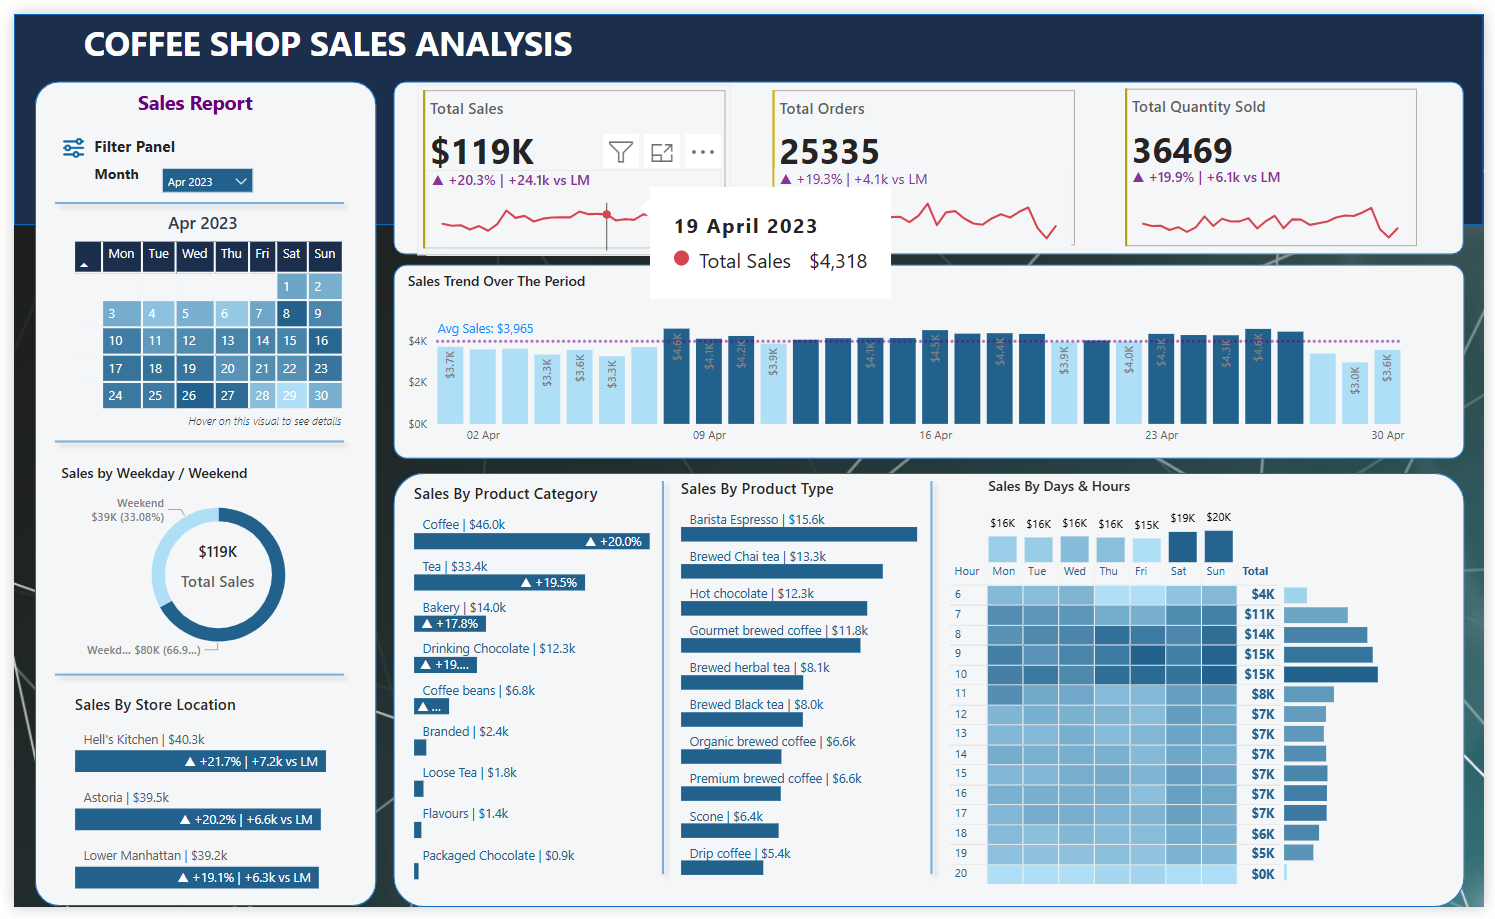

The dashboard page shown, as its layout file describes it:
{"tool":"powerbi","page":{"name":"Page 1","canvas":[1400,850],"ordinal":0},"visuals":[{"type":"shape","box":[0,0,1399.5,201],"z":0},{"type":"shape","box":[20.4,64.4,325.1,785.3],"z":1000},{"type":"shape","box":[361.3,64.4,1019.4,164.9],"z":2000},{"type":"textbox","box":[61.3,0,523,67.5],"z":3000},{"type":"slicer","fields":{"Values":["Date Table.Month Year"]},"box":[135,141.7,96.7,31.7],"z":4000},{"type":"cardVisual","fields":{"Data":["Transactions.Total Quantity Sold"]},"box":[1052.5,65,288.8,160.6],"z":5000,"group":"g3"},{"type":"group","id":"g1","title":"Group 1","box":[383.8,67.5,298.8,162.5],"z":5000},{"type":"cardVisual","fields":{"Data":["Transactions.Total Sales"]},"box":[383.8,67.5,298.8,161.9],"z":5000,"group":"g1"},{"type":"cardVisual","fields":{"Data":["Transactions.Total Orders"]},"box":[717.5,67.5,298.5,158.5],"z":5000,"group":"g2"},{"type":"group","id":"g2","title":"Group 1","box":[717.5,67.5,298.5,160],"z":6000},{"type":"lineChart","fields":{"Y":["Transactions.Total Quantity Sold"],"Category":["Date Table.Date Hierarchy.Date"]},"box":[1060.2,145.2,272.4,81.1],"z":6000,"group":"g3"},{"type":"lineChart","fields":{"Y":["Transactions.Total Orders"],"Category":["Date Table.Date Hierarchy.Date"]},"box":[725,147.5,282.5,80],"z":6000,"group":"g2"},{"type":"lineChart","fields":{"Y":["Transactions.Total Sales"],"Category":["Date Table.Date Hierarchy.Date"]},"box":[391.8,148.3,281.8,81.7],"z":6000,"group":"g1"},{"type":"group","id":"g3","title":"Group 1","box":[1052.5,65,288.8,161.2],"z":7000},{"type":"pivotTable","fields":{"Columns":["Date Table.Day Name"],"Rows":["Date Table.Week Number"],"Values":["Min(Date Table.Day Number)"]},"box":[53.3,211.7,305,190],"z":8000},{"type":"card","fields":{"Values":["Min(Date Table.Month Year)"]},"box":[123.3,183.3,113.3,35],"z":9000},{"type":"card","fields":{"Values":["Transactions.Foot Note"]},"box":[148.3,375,180,25],"z":10000},{"type":"shape","box":[30,386.7,293.3,40],"z":11000},{"type":"shape","box":[30,160,293.3,40],"z":12000},{"type":"donutChart","title":"Sales by Weekday / Weekend","fields":{"Category":["Date Table.Weekday / Weekend"],"Y":["Transactions.Total Sales"]},"box":[39.5,427.5,308.8,195],"z":13000,"group":"g4"},{"type":"shape","box":[30,610,293.3,38.3],"z":13000},{"type":"group","id":"g4","title":"Group 2","box":[39.5,427.5,308.8,195],"z":14000},{"type":"cardVisual","fields":{"Data":["Transactions.Total Sales"]},"box":[138.3,482.5,111.2,85],"z":14000,"group":"g4"},{"type":"clusteredBarChart","title":"Sales By Store Location","fields":{"Y":["Transactions.Placeholder","Transactions.Total Sales"],"Category":["Transactions.store_location"]},"box":[53.3,646.7,285,193.3],"z":15000},{"type":"shape","box":[361.2,238.8,1020,185],"z":16000},{"type":"shape","box":[361.7,436.7,1020,413.3],"z":17000},{"type":"columnChart","title":"Sales Trend Over The Period","fields":{"Y":["Transactions.Total Sales"],"Category":["Transactions.transaction_date"]},"box":[370,243.8,960,173.8],"z":18000},{"type":"clusteredBarChart","title":"Sales By Product Category","fields":{"Y":["Transactions.Placeholder","Transactions.Total Sales"],"Category":["Transactions.product_category"]},"box":[375,445,266.2,383.8],"z":19000},{"type":"shape","box":[593.8,436.2,47.5,392.5],"z":20000},{"type":"clusteredBarChart","title":"Sales By Product Type","fields":{"Y":["Transactions.Placeholder","Transactions.Total Sales"],"Category":["Transactions.product_type"]},"box":[630,441.2,266.2,383.8],"z":21000},{"type":"shape","box":[850,436.2,47.5,392.5],"z":22000},{"type":"pivotTable","fields":{"Rows":["Transactions.Hour"],"Columns":["Date Table.Day Name"],"Values":["Transactions.Total Sales"]},"box":[885.6,516.7,414.4,333.3],"z":23000},{"type":"barChart","fields":{"Category":["Transactions.Hour"],"Y":["Transactions.Total Sales"]},"box":[1204.4,532.2,125.6,296.7],"z":24000},{"type":"columnChart","title":"Sales By Days & Hours","fields":{"Category":["Date Table.Day Name"],"Y":["Transactions.Total Sales"]},"box":[923.3,440,243.3,87.8],"z":25000},{"type":"textbox","box":[71.7,136.7,63.3,31.7],"z":26000},{"type":"textbox","box":[113.3,65,150,35],"z":27000},{"type":"textbox","box":[71.7,110,106.7,31.7],"z":28000},{"type":"image","box":[41.1,112.8,30.6,28.9],"z":29000}]}

Visuals, with their boxes in screenshot pixels (x1, y1, x2, y2), scaled from the page's 1400x850 canvas onto the 1495x919 screenshot:
shape: [left=0, top=0, right=1494, bottom=217]
shape: [left=22, top=70, right=369, bottom=918]
shape: [left=386, top=70, right=1474, bottom=248]
textbox: [left=65, top=0, right=624, bottom=73]
slicer - Date Table.Month Year: [left=144, top=153, right=247, bottom=187]
cardVisual - Transactions.Total Quantity Sold: [left=1124, top=70, right=1432, bottom=244]
"Group 1" group: [left=410, top=73, right=729, bottom=249]
cardVisual - Transactions.Total Sales: [left=410, top=73, right=729, bottom=248]
cardVisual - Transactions.Total Orders: [left=766, top=73, right=1085, bottom=244]
"Group 1" group: [left=766, top=73, right=1085, bottom=246]
lineChart - Transactions.Total Quantity Sold x Date Table.Date Hierarchy.Date: [left=1132, top=157, right=1423, bottom=245]
lineChart - Transactions.Total Orders x Date Table.Date Hierarchy.Date: [left=774, top=159, right=1076, bottom=246]
lineChart - Transactions.Total Sales x Date Table.Date Hierarchy.Date: [left=418, top=160, right=719, bottom=249]
"Group 1" group: [left=1124, top=70, right=1432, bottom=245]
pivotTable - Date Table.Day Name x Date Table.Week Number: [left=57, top=229, right=383, bottom=434]
card - Min(Date Table.Month Year): [left=132, top=198, right=253, bottom=236]
card - Transactions.Foot Note: [left=158, top=405, right=351, bottom=432]
shape: [left=32, top=418, right=345, bottom=461]
shape: [left=32, top=173, right=345, bottom=216]
"Sales by Weekday / Weekend" donutChart: [left=42, top=462, right=372, bottom=673]
shape: [left=32, top=660, right=345, bottom=701]
"Group 2" group: [left=42, top=462, right=372, bottom=673]
cardVisual - Transactions.Total Sales: [left=148, top=522, right=266, bottom=614]
"Sales By Store Location" clusteredBarChart: [left=57, top=699, right=361, bottom=908]
shape: [left=386, top=258, right=1475, bottom=458]
shape: [left=386, top=472, right=1475, bottom=918]
"Sales Trend Over The Period" columnChart: [left=395, top=264, right=1420, bottom=451]
"Sales By Product Category" clusteredBarChart: [left=400, top=481, right=685, bottom=896]
shape: [left=634, top=472, right=685, bottom=896]
"Sales By Product Type" clusteredBarChart: [left=673, top=477, right=957, bottom=892]
shape: [left=908, top=472, right=958, bottom=896]
pivotTable - Transactions.Hour x Date Table.Day Name: [left=946, top=559, right=1388, bottom=918]
barChart - Transactions.Hour x Transactions.Total Sales: [left=1286, top=575, right=1420, bottom=896]
"Sales By Days & Hours" columnChart: [left=986, top=476, right=1246, bottom=571]
textbox: [left=77, top=148, right=144, bottom=182]
textbox: [left=121, top=70, right=281, bottom=108]
textbox: [left=77, top=119, right=191, bottom=153]
image: [left=44, top=122, right=77, bottom=153]
